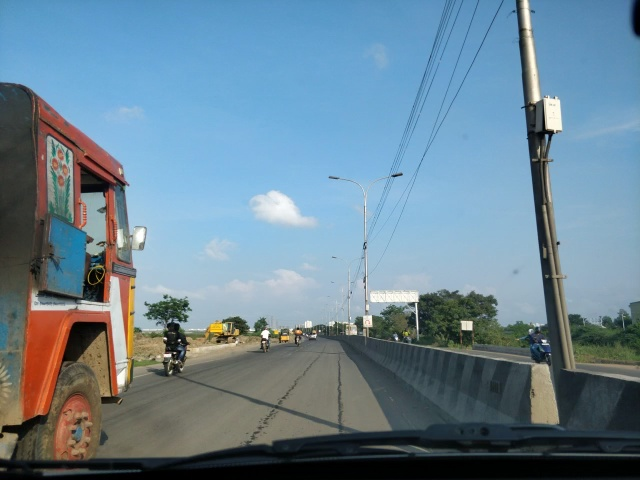auto: (276, 325, 293, 346)
car: (308, 331, 318, 342)
motorbike: (510, 319, 557, 369), (161, 317, 189, 381), (245, 324, 276, 357), (396, 324, 422, 354), (292, 326, 305, 352)
truck: (6, 79, 152, 473), (204, 315, 243, 347)
